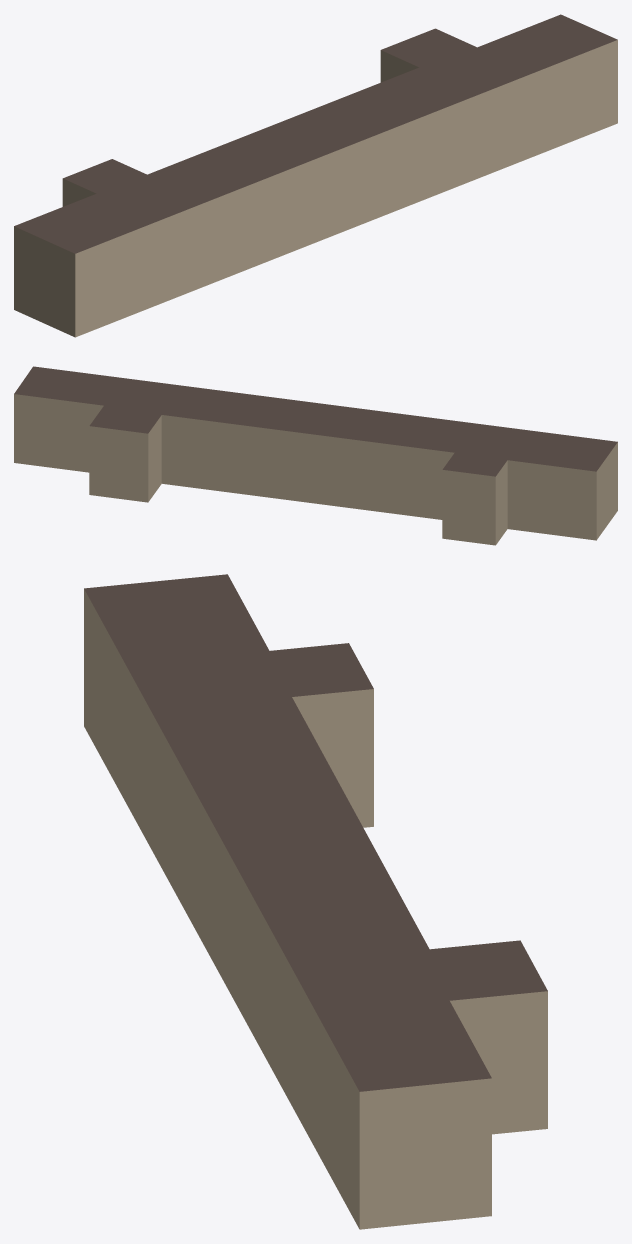
3 renders of one model, top to bottom at view 1: azimuth 30°, elevation 25°; view 2: azimuth 150°, elevation 25°; view 3: azimuth 270°, elevation 25°, orthographic. The views are drawn at different scales.
Parts seen in each view (by area): view 1: HP-w293385216; view 2: HP-w293385216; view 3: HP-w293385216.
Part boxes in pixels (left/top/right/bottom): HP-w293385216: left=14, top=14, right=617, bottom=337; HP-w293385216: left=14, top=366, right=617, bottom=545; HP-w293385216: left=84, top=574, right=547, bottom=1229.
Size of the model in its own units: 72.5 by 9 by 27.47.
